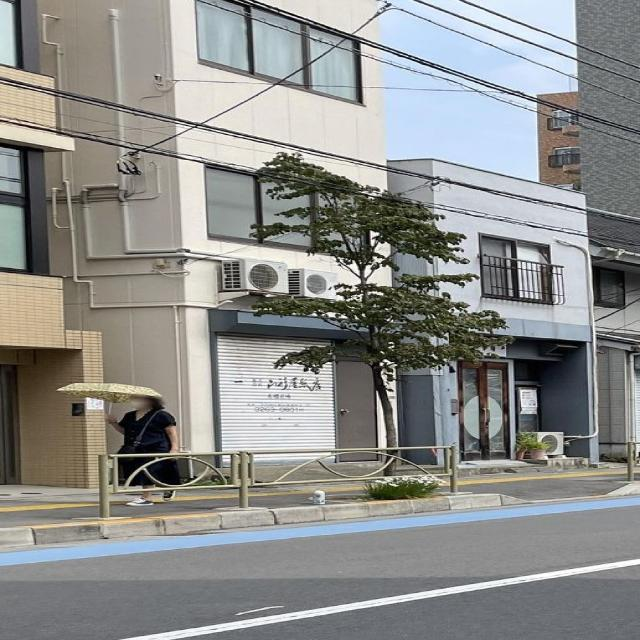dogwood: (248, 149, 516, 495)
